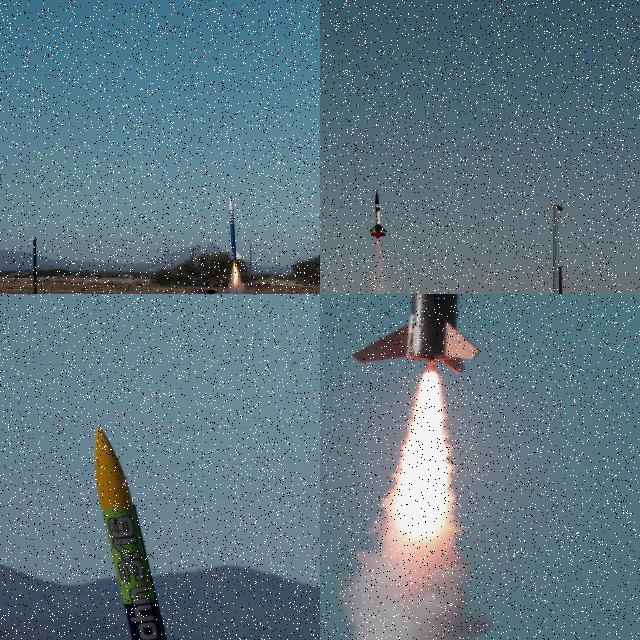Rocket: (88, 426, 208, 640), (351, 294, 482, 376), (228, 197, 243, 260), (370, 191, 388, 240)
